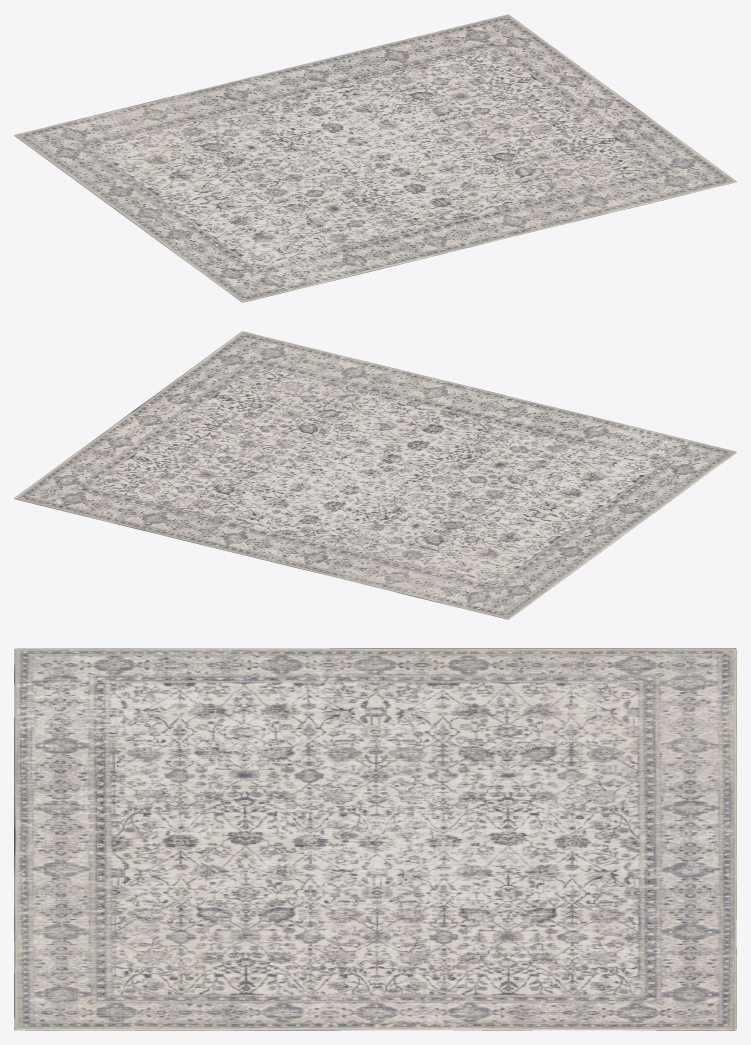
The model's file is LB-LR-RUG-01.glb.
3 views of the same model, one above another, from view 1: azimuth 30°, elevation 25°; view 2: azimuth 150°, elevation 25°; view 3: azimuth 270°, elevation 25° (orthographic). The views are drawn at different scales.
Visible parts, largest first — view 1: ASY_ART_20623408_S01_NV01; view 2: ASY_ART_20623408_S01_NV01; view 3: ASY_ART_20623408_S01_NV01.
Boxes of the visible parts, left/top/right/bottom form: ASY_ART_20623408_S01_NV01: left=14, top=14, right=736, bottom=302; ASY_ART_20623408_S01_NV01: left=14, top=331, right=736, bottom=619; ASY_ART_20623408_S01_NV01: left=14, top=648, right=736, bottom=1030.
Bounding box in the file's own units: 3.05 × 0.00596 × 2.44.
Materials: 1 (1 with a texture image).
